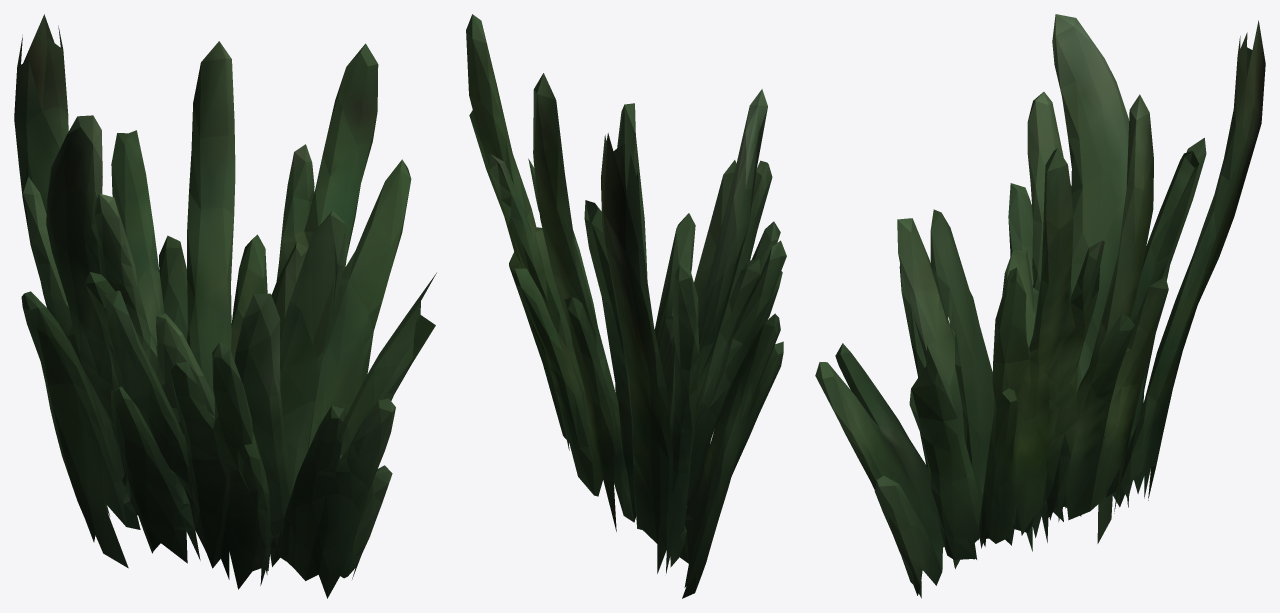
File: terrain4_plant_1.glb
The picture shows the model from 3 angles, left to right: view 1: azimuth 30°, elevation 25°; view 2: azimuth 150°, elevation 25°; view 3: azimuth 270°, elevation 25°; orthographic projection. The views are drawn at different scales.
Parts seen in each view (by area): view 1: plant_1; view 2: plant_1; view 3: plant_1.
Boxes of the visible parts, bbox=[...] form: plant_1: bbox=[14, 14, 436, 598]; plant_1: bbox=[466, 14, 786, 598]; plant_1: bbox=[815, 14, 1265, 598].
Bounding box in the file's own units: 8.83 × 12.47 × 9.77.
1 material, 1 textured.
